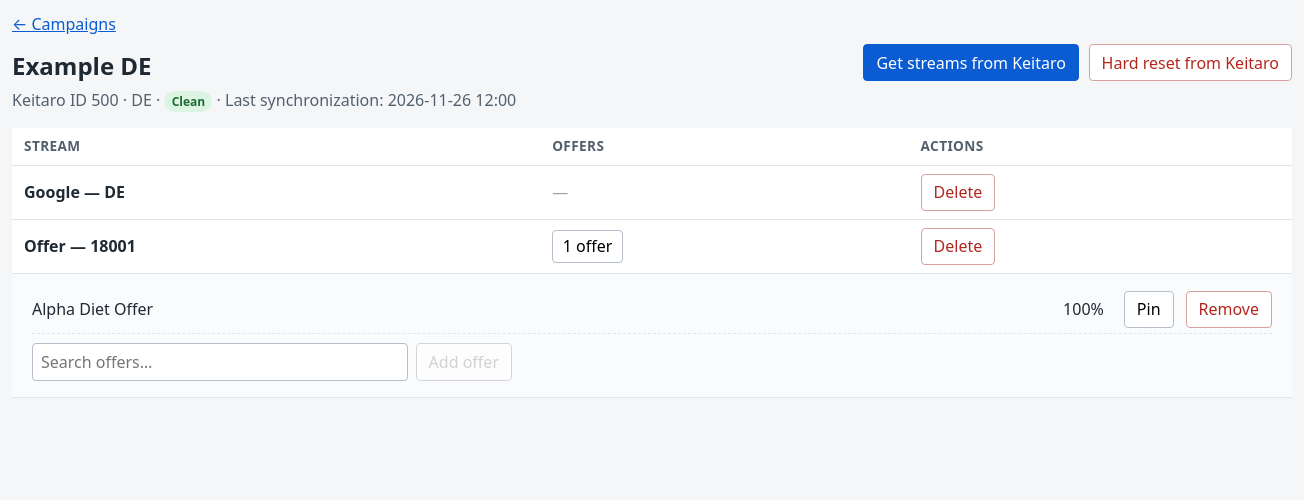
CampaignEditorPage — fetch, discard, and conflicts › hard resets the local draft from Keitaro after confirmation
What coordinates should you click on to do the following:
click the button "Hard reset from Keitaro"
I would click on:
 (1190, 63)
Its box is x1=1089 y1=44 x2=1292 y2=81.
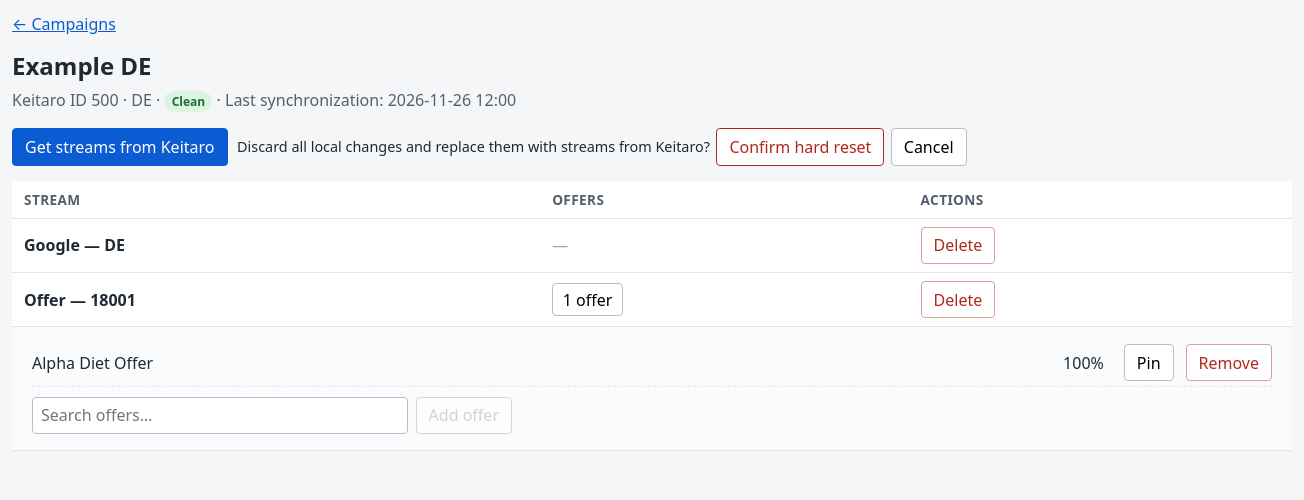
What coordinates should you click on to do the following:
click the button "Confirm hard reset"
I would click on:
 (800, 147)
Its box is x1=716 y1=128 x2=884 y2=166.
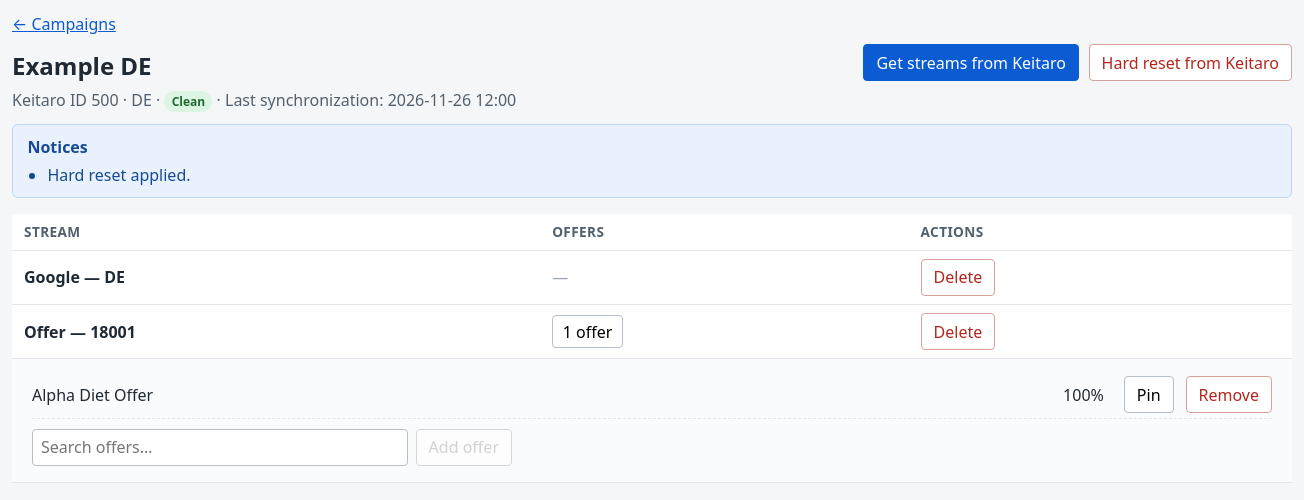
Now the list item "Hard reset applied." is shown, box x1=47 y1=164 x2=190 y2=186
